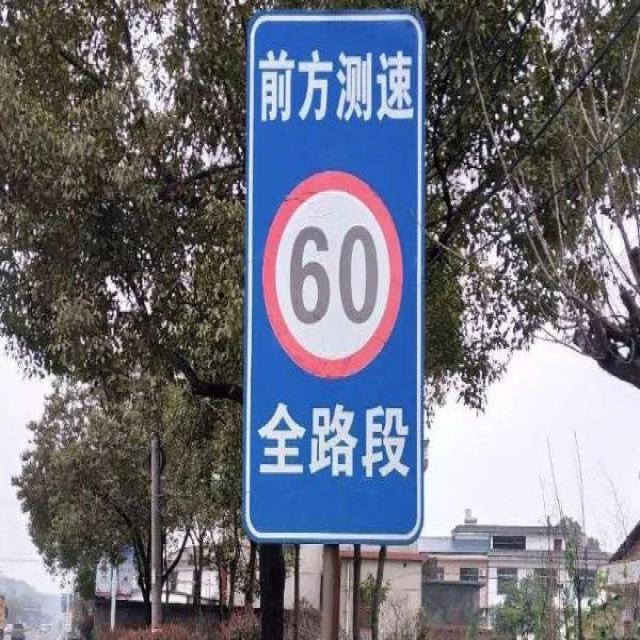speed limit 60: (261, 169, 404, 379)
